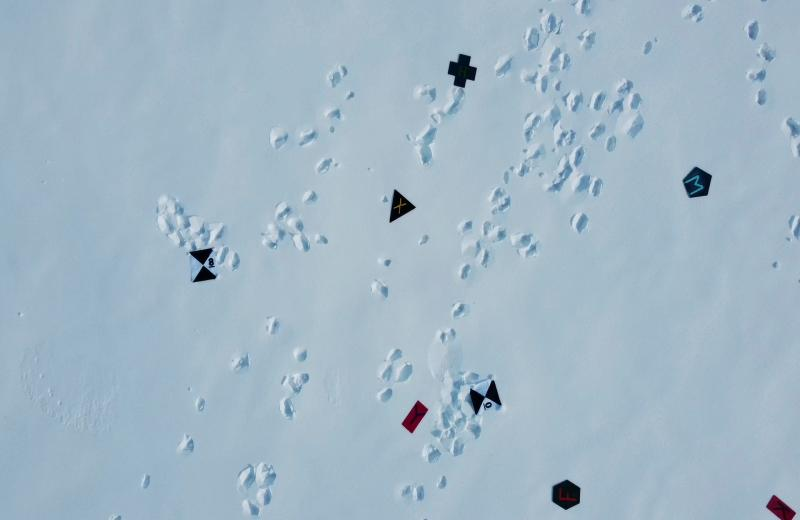Cross: (446, 47, 483, 94)
Hexagon: (548, 474, 586, 512)
Pentagon: (678, 160, 715, 201)
Rectangle: (399, 396, 435, 439), (763, 491, 797, 520)
Triangle: (383, 187, 419, 227)
